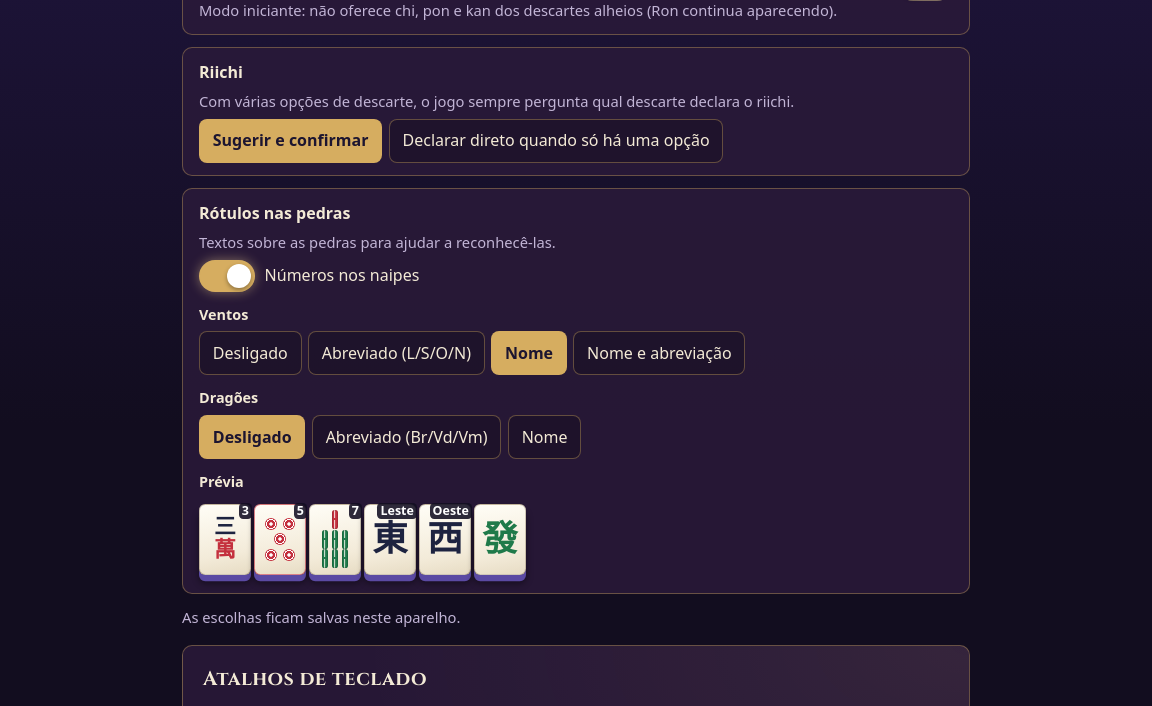
Scenario: ajudas liga/desliga e persistidas (aceite da Fase 3) › rótulos configuráveis aparecem na prévia
(page scrolled)
Expected: the text "Leste" is shown, [377,503,417,519]
Step 1. Click the radio button labelled "Abreviado (L/S/O/N)" → point(396, 354), box [308,332,485,376]
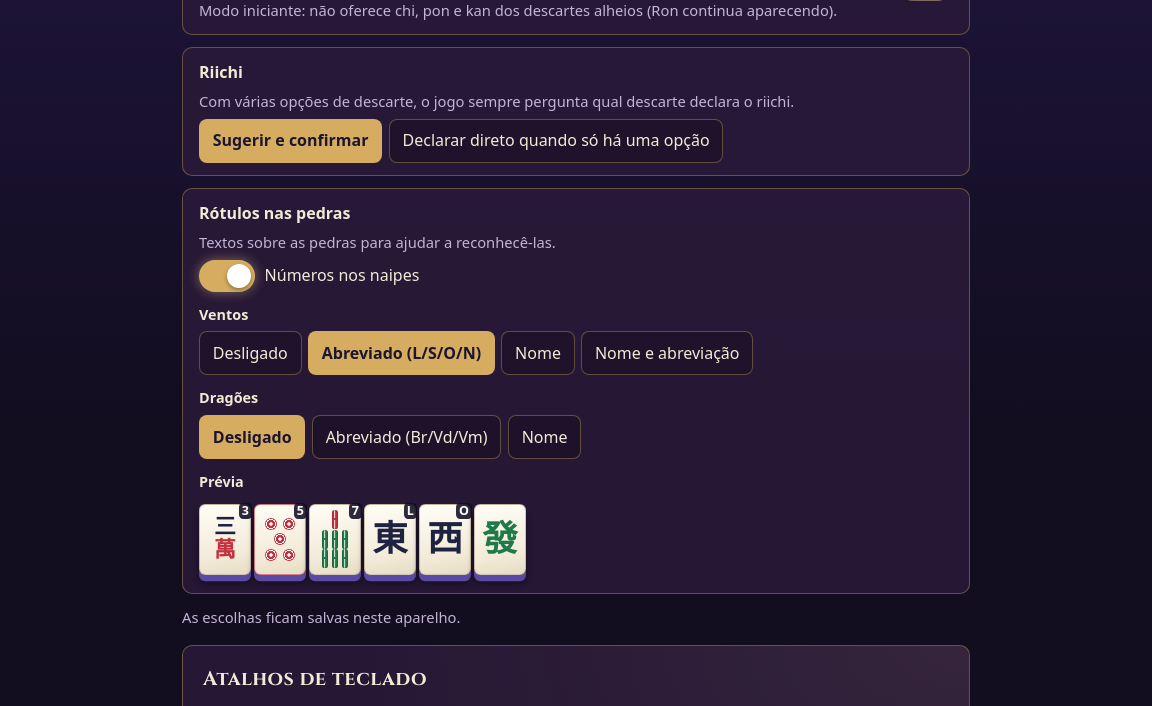
Step 2. Click the radio button labelled "Abreviado (Br/Vd/Vm)" → point(407, 437), box [312,415,501,459]
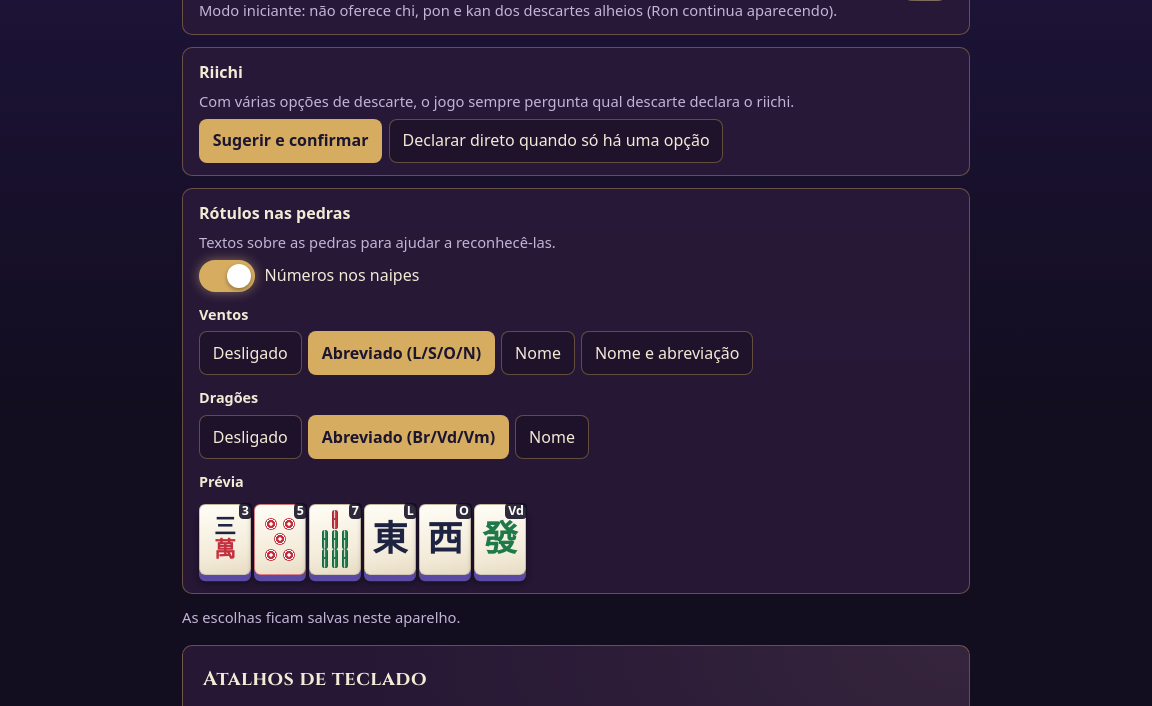
Expected: the text "Vd" is shown, [505,503,527,519]
